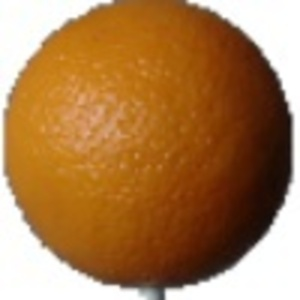laranja: (1, 2, 294, 290)
